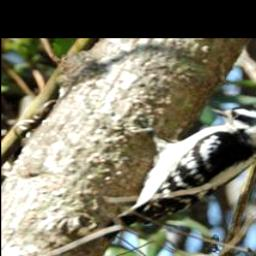Woodpecker: (116, 105, 256, 227)
